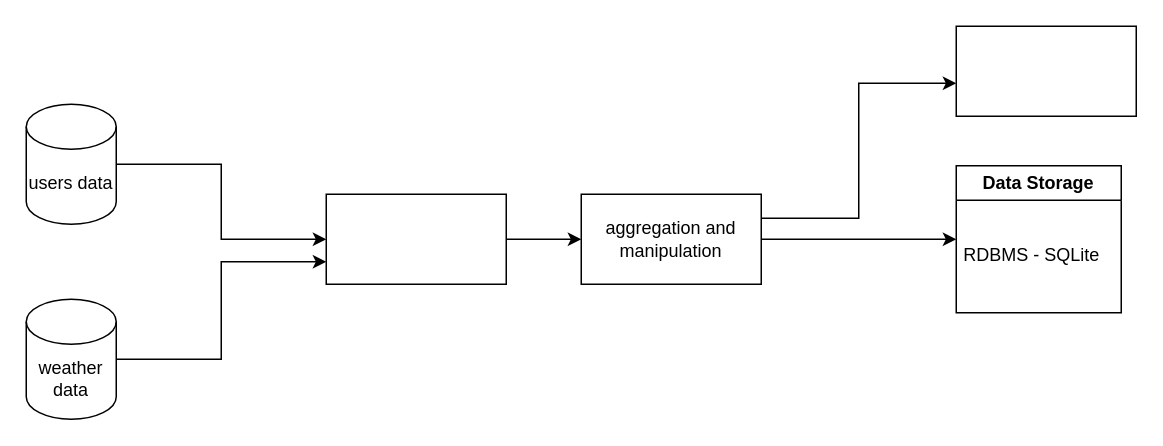
Some shapes in this 1163 by 446 pixel diagram are drawn without their labels. Here are the shapes that lost their labels. From the top down, the box of each, then its label:
(955, 25, 1136, 116): Data Visualization - Monthly/Quaterly Sales trend
(325, 193, 506, 284): merged data on customer id
